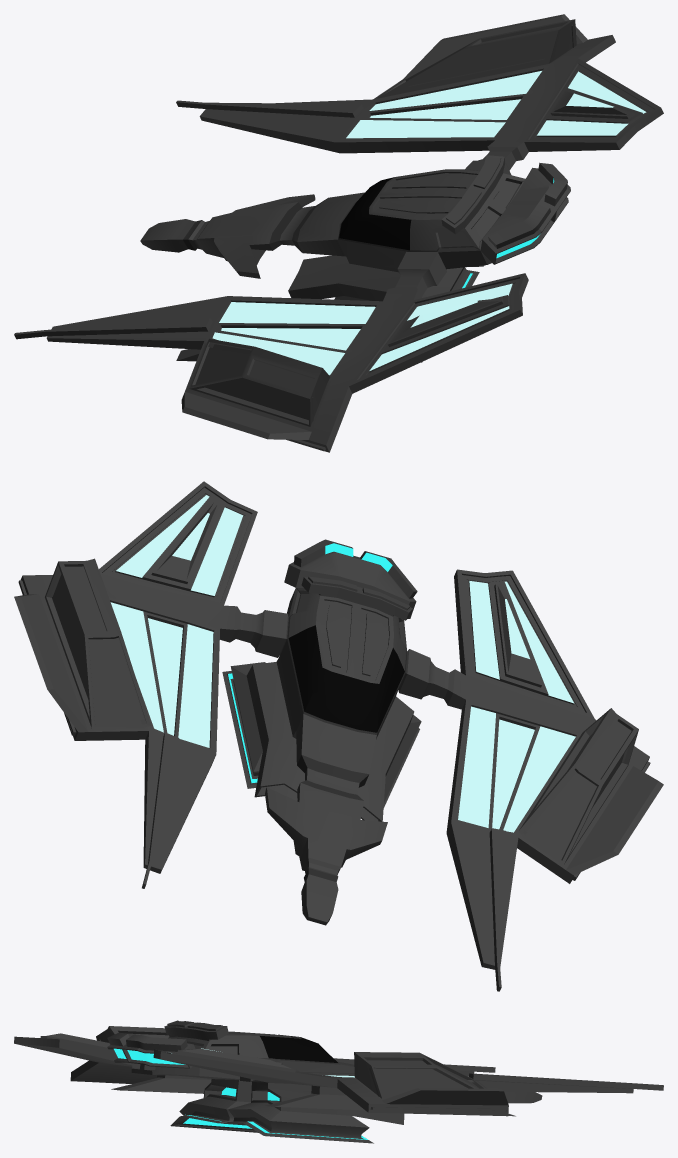
File: room.gltf
The picture shows the model from 3 angles, top to bottom: view 1: azimuth 30°, elevation 25°; view 2: azimuth 150°, elevation 25°; view 3: azimuth 270°, elevation 25°; orthographic projection. The views are drawn at different scales.
Visible parts, largest first — view 1: Cube.003; view 2: Cube.003; view 3: Cube.003.
Part boxes in pixels (x1,y1,x2,y2): Cube.003: [14, 14, 663, 452]; Cube.003: [14, 481, 663, 991]; Cube.003: [14, 1020, 663, 1143].
Size of the model in its own units: 9.27 by 4.15 by 10.52.
